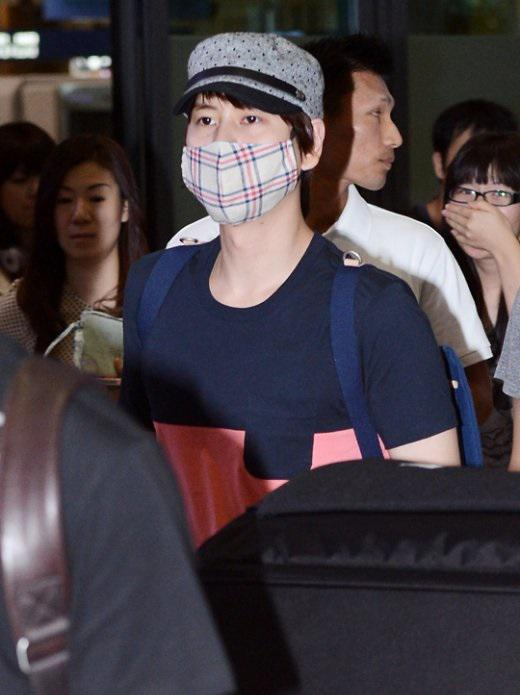NONE: (333, 89, 404, 189), (444, 181, 519, 256), (56, 178, 117, 258), (4, 165, 54, 227)
WRONG: (186, 96, 299, 218)
